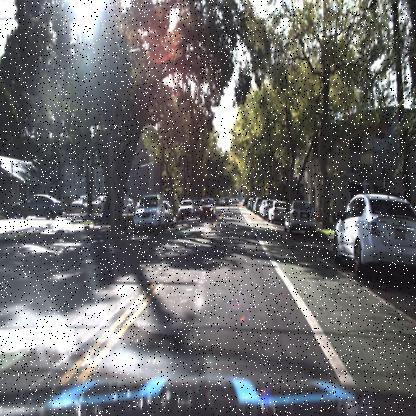car: (328, 181, 416, 292), (329, 189, 415, 272), (8, 188, 65, 228), (282, 196, 322, 241), (12, 189, 63, 221), (132, 193, 164, 232), (284, 203, 317, 234), (196, 196, 217, 223), (267, 196, 287, 224), (267, 198, 285, 225), (158, 197, 176, 223), (198, 196, 216, 219), (175, 198, 194, 218), (126, 192, 136, 213)
